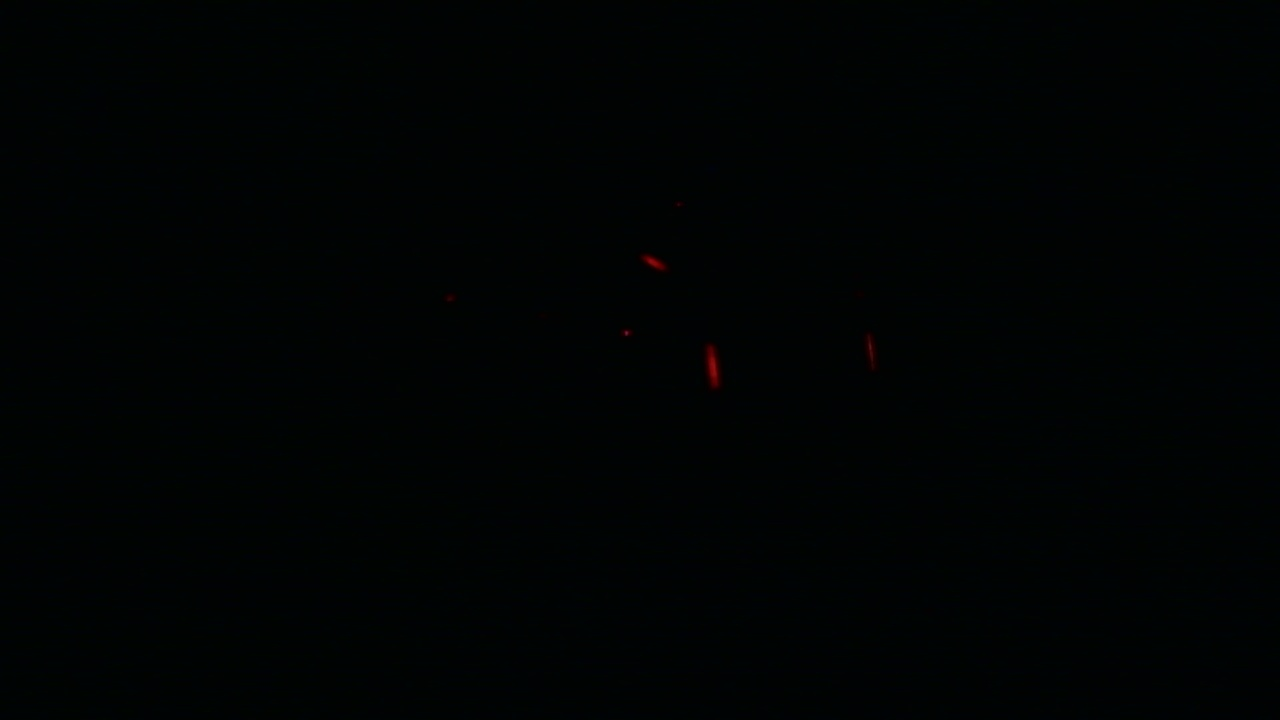lamp: (703, 343, 723, 378)
pair2: (702, 334, 873, 382)
